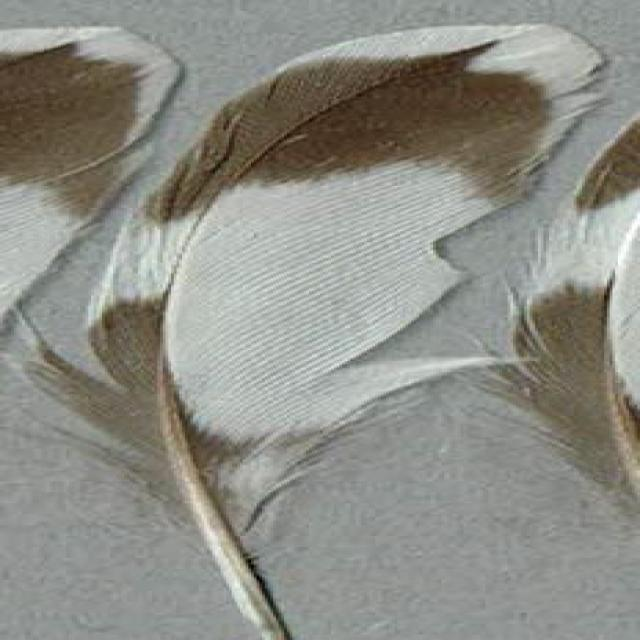feather: (3, 19, 613, 640)
